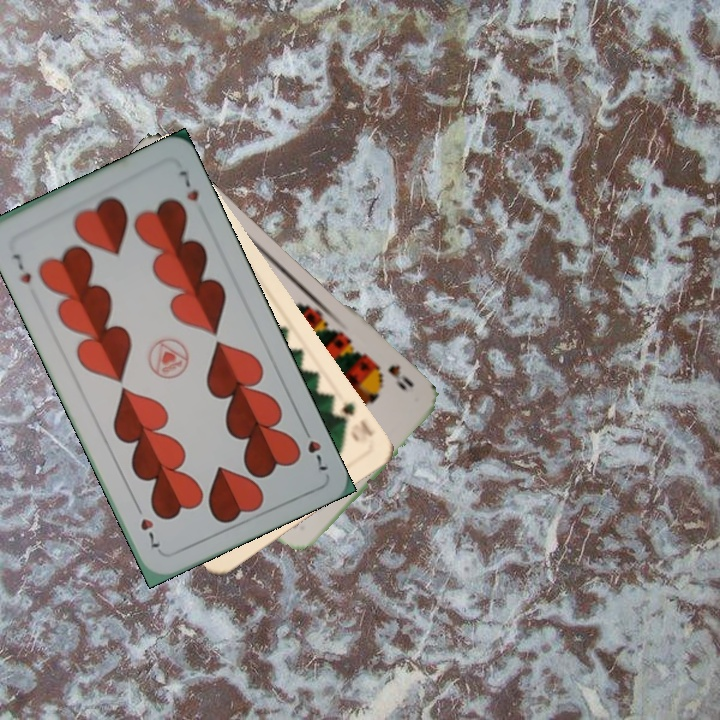G10: (337, 398, 377, 445)
H7: (298, 420, 330, 474), (8, 249, 34, 286)
S9: (368, 356, 417, 394)
